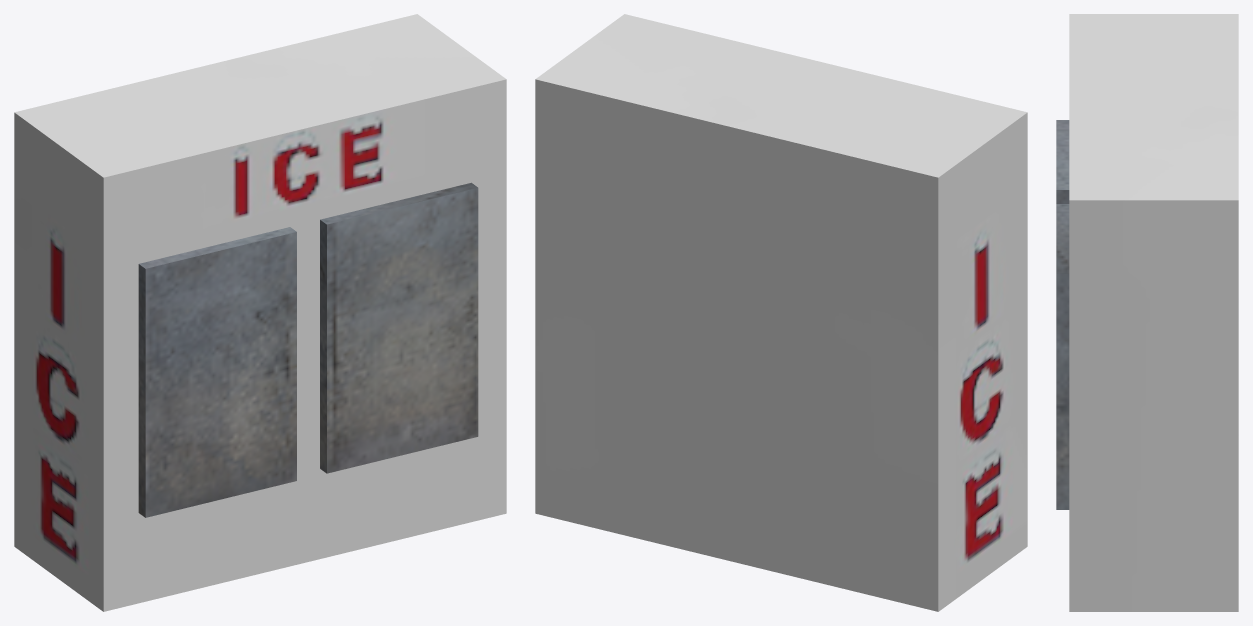
The model's file is gas_ice.fbx.
3 views of the same model, side by side, from view 1: azimuth 30°, elevation 25°; view 2: azimuth 150°, elevation 25°; view 3: azimuth 270°, elevation 25° (orthographic). The views are drawn at different scales.
Visible parts, largest first — view 1: gas_ice; view 2: gas_ice; view 3: gas_ice.
Part boxes in pixels (bbox=[...]): gas_ice: bbox=[14, 14, 506, 611]; gas_ice: bbox=[535, 14, 1027, 611]; gas_ice: bbox=[1056, 14, 1238, 611].
Bounding box in the file's own units: 1.97 × 2.02 × 0.8115.
Materials: 1 (1 with a texture image).
